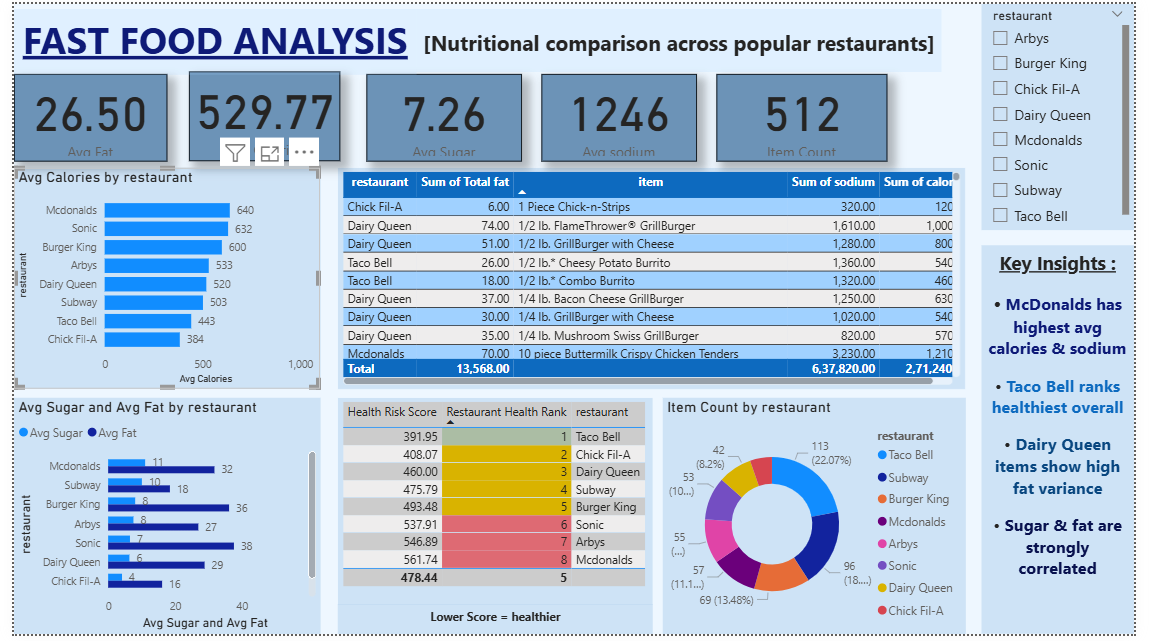

The dashboard page shown, as its layout file describes it:
{"tool":"powerbi","page":{"name":"Page 1","canvas":[1280,720],"ordinal":0},"visuals":[{"type":"card","fields":{"Values":["food.Avg Fat"]},"box":[0,80,175,100],"z":0},{"type":"card","fields":{"Values":["food.Avg sodium"]},"box":[602.5,80,177.5,100],"z":1000},{"type":"card","fields":{"Values":["food.Avg Sugar"]},"box":[402.5,80,177.5,100],"z":2000},{"type":"card","fields":{"Values":["food.Avg Calories"]},"box":[200,77.5,172.5,102.5],"z":3000},{"type":"card","fields":{"Values":["food.Item Count"]},"box":[802.5,80,195,100],"z":4000},{"type":"textbox","box":[0,5,460,75],"z":5000},{"type":"clusteredBarChart","fields":{"Category":["food.restaurant"],"Y":["food.Avg Calories"]},"box":[0,187.5,350,252.5],"z":6000},{"type":"clusteredBarChart","fields":{"Category":["food.restaurant"],"Y":["food.Avg Sugar","food.Avg Fat"]},"box":[0,450,350,270],"z":7000},{"type":"tableEx","fields":{"Values":["food.restaurant","Sum(food.Total fat)","food.item","Sum(food.sodium)","Sum(food.calories)"]},"box":[370.5,187.1,716.6,253.1],"z":8000},{"type":"slicer","fields":{"Values":["food.restaurant"]},"box":[1106,0,174,258],"z":9000},{"type":"tableEx","fields":{"Values":["food.Health Risk Score","food.Restaurant Health Rank","food.restaurant"]},"box":[370,450,360,236],"z":10000},{"type":"donutChart","fields":{"Category":["food.restaurant"],"Y":["food.Item Count"]},"box":[742,450,346,270],"z":11000},{"type":"textbox","box":[370,686,360,34],"z":12000},{"type":"textbox","box":[1106,276,174,444],"z":13000},{"type":"textbox","box":[460,6,600,72],"z":14000}]}

Visuals, with their boxes in screenshot pixels (x1, y1, x2, y2), scaled from the page's 1280x720 canvas onto the 1154x641 screenshot:
card - food.Avg Fat: {"left": 0, "top": 71, "right": 158, "bottom": 160}
card - food.Avg sodium: {"left": 543, "top": 71, "right": 703, "bottom": 160}
card - food.Avg Sugar: {"left": 363, "top": 71, "right": 523, "bottom": 160}
card - food.Avg Calories: {"left": 180, "top": 69, "right": 336, "bottom": 160}
card - food.Item Count: {"left": 724, "top": 71, "right": 899, "bottom": 160}
textbox: {"left": 0, "top": 4, "right": 415, "bottom": 71}
clusteredBarChart - food.restaurant x food.Avg Calories: {"left": 0, "top": 167, "right": 316, "bottom": 392}
clusteredBarChart - food.restaurant x food.Avg Sugar: {"left": 0, "top": 401, "right": 316, "bottom": 640}
tableEx - food.restaurant x Sum(food.Total fat): {"left": 334, "top": 167, "right": 980, "bottom": 392}
slicer - food.restaurant: {"left": 997, "top": 0, "right": 1153, "bottom": 230}
tableEx - food.Health Risk Score x food.Restaurant Health Rank: {"left": 334, "top": 401, "right": 658, "bottom": 611}
donutChart - food.restaurant x food.Item Count: {"left": 669, "top": 401, "right": 981, "bottom": 640}
textbox: {"left": 334, "top": 611, "right": 658, "bottom": 640}
textbox: {"left": 997, "top": 246, "right": 1153, "bottom": 640}
textbox: {"left": 415, "top": 5, "right": 956, "bottom": 69}
